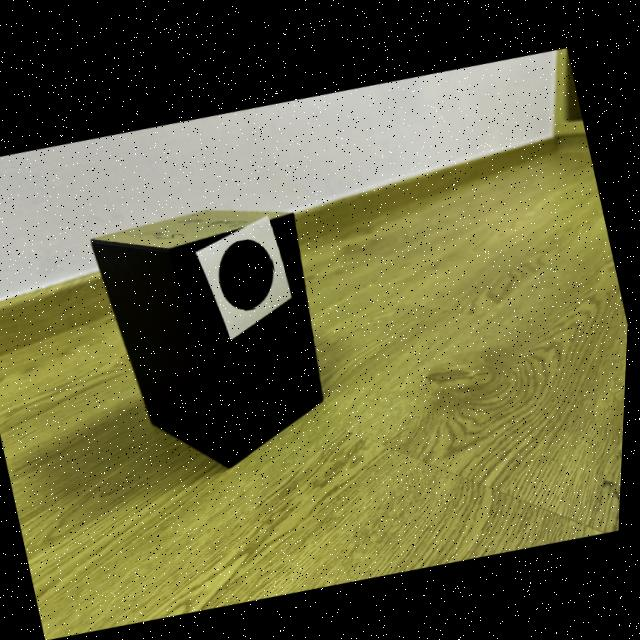CIRCLE: (222, 235, 276, 305)
